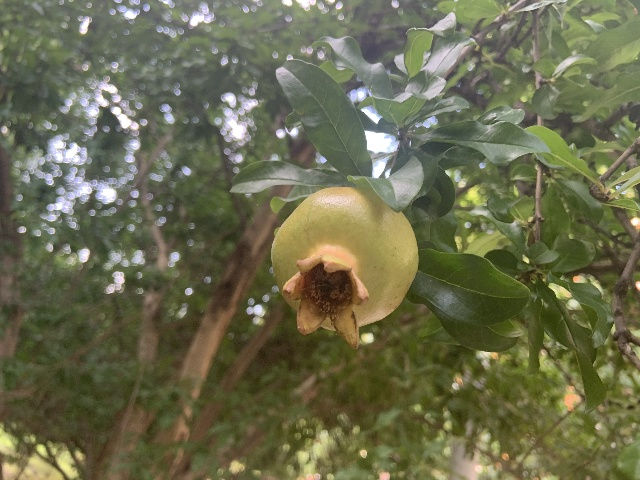mid-growth: (270, 186, 418, 349)
